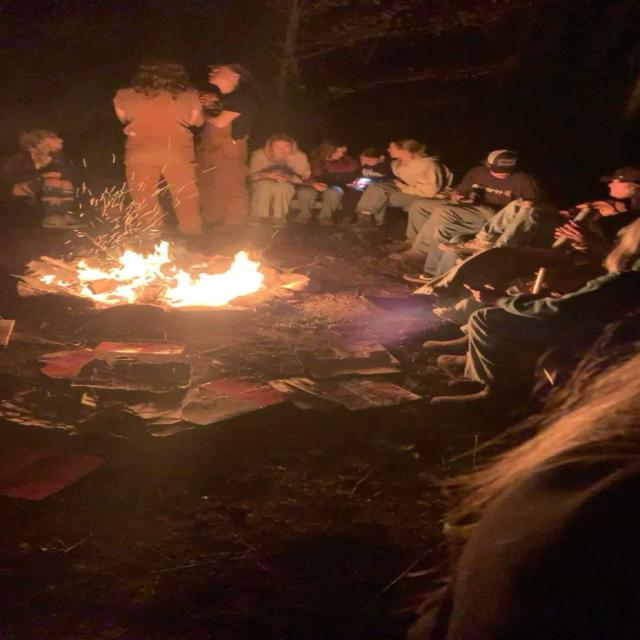fire: (163, 250, 264, 307), (110, 250, 170, 281)
